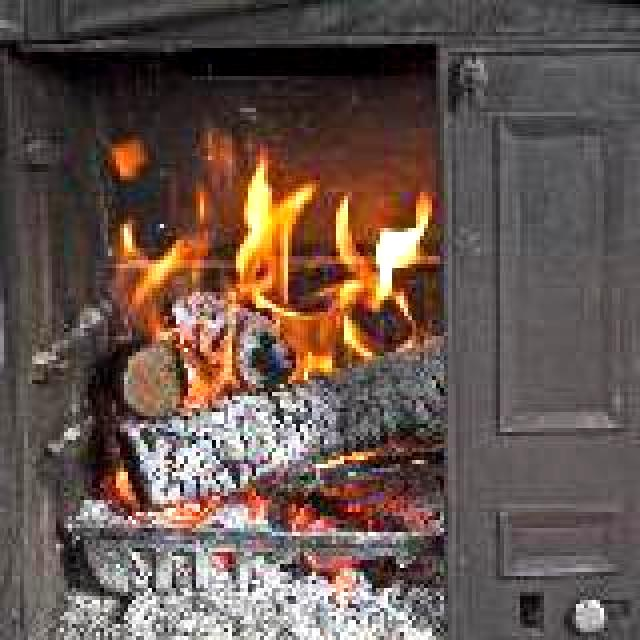fire: (84, 116, 428, 396)
